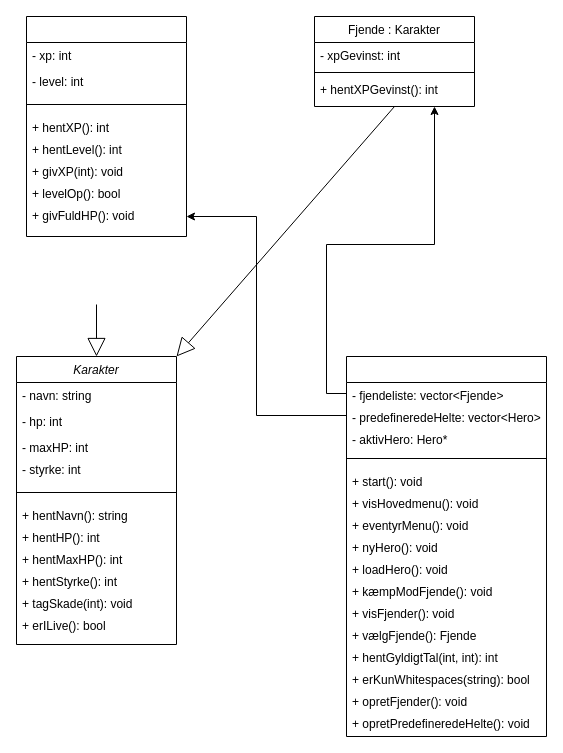
This 563x753 diagram has some shape labels left out. The box of each missing label's shape, as (x1, y1, x2, y2) in pixels:
Hero : Karakter: (26, 16, 186, 236)
SpilManager: (346, 356, 546, 736)
